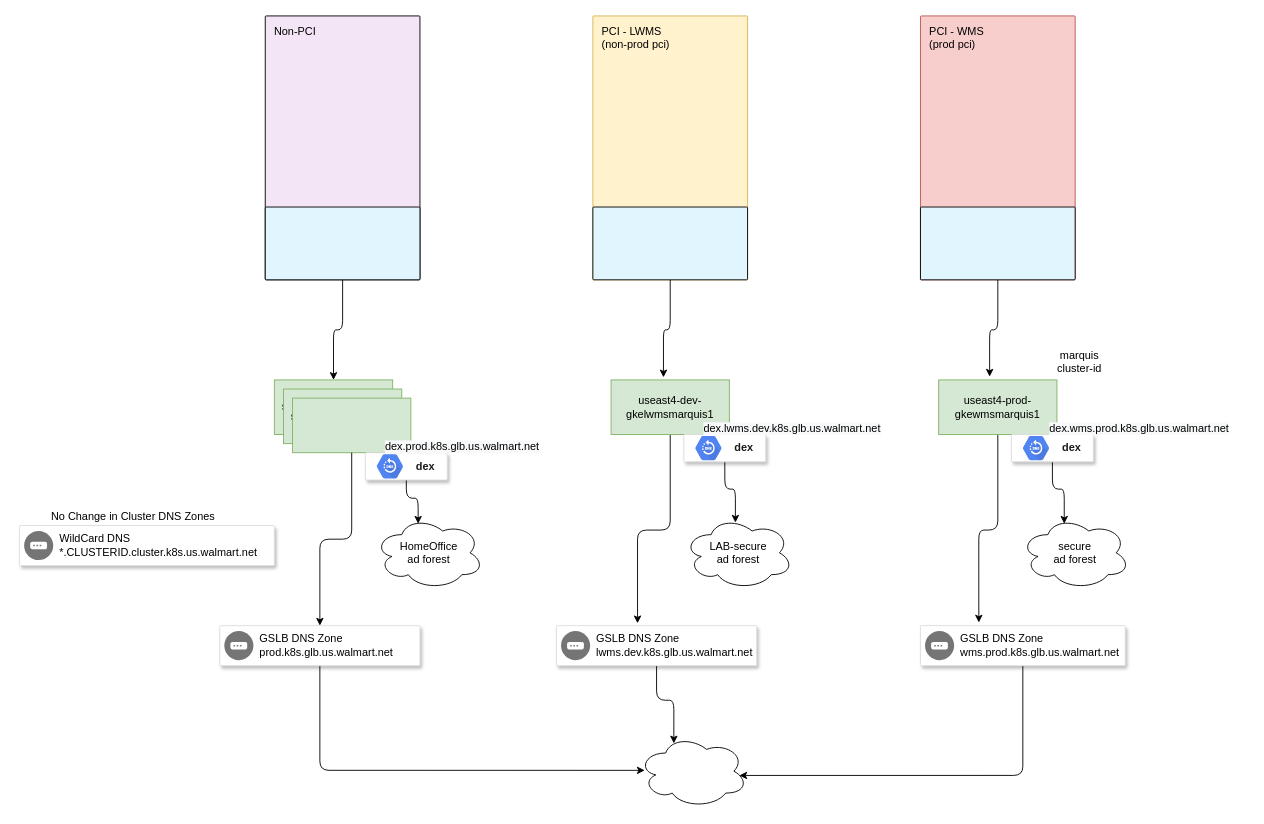
This 1264x824 diagram has some shape labels left out. The shapes that lost their labels are listed below. From the top down, each one's centre as x and y in pixels, then its label:
At point (342, 243): "cloud-prod-amarquis1 (alias)".
At point (670, 243): "cloud-dev-gkelwmsmarquis1 (alias)".
At point (997, 243): "cloud-prod-gkewmsmarquis1 (alias)".
At point (351, 425): "scus/eus2/wus -prod-amarquis1".
At point (692, 771): "torbit-api".
